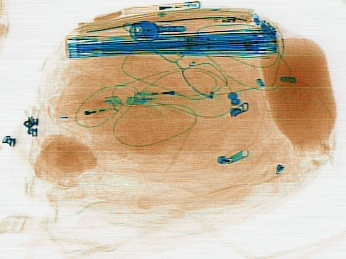lighter: (54, 93, 122, 121), (130, 87, 204, 103), (123, 0, 200, 13)
